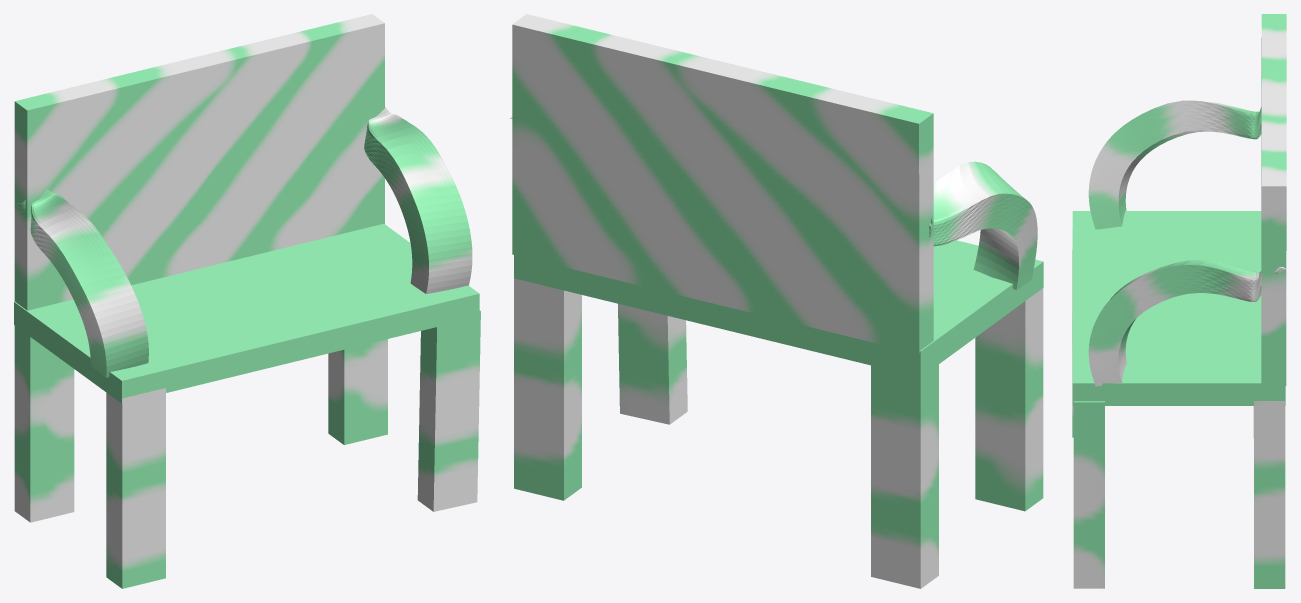
Rendered from Bench.glb.
3 views of the same model, side by side, from view 1: azimuth 30°, elevation 25°; view 2: azimuth 150°, elevation 25°; view 3: azimuth 270°, elevation 25° (orthographic). The views are drawn at different scales.
Visible parts, largest first — view 1: Box 4, Box (×2), Box 5, Box 2, Box 6, Box 1, Box 3; view 2: Box 4, Box (×2), Box 1, Box 3, Box 6, Box 5; view 3: Box, Box 4, Box 6, Box 2, Box 5, Box 3.
Part boxes in pixels (x1,y1,x2,y2): Box 4: (14,14,384,310); Box (×2): (14,223,479,588); Box 5: (417,310,480,511); Box 2: (364,106,472,293); Box 6: (16,189,148,377); Box 1: (14,325,74,522); Box 3: (328,339,387,444); Box 4: (512,14,933,353); Box (×2): (514,240,1043,511); Box 1: (871,364,938,588); Box 3: (514,278,581,500); Box 6: (929,161,1037,290); Box 5: (618,304,687,424); Box: (1072,211,1285,405); Box 4: (1261,14,1286,385); Box 6: (1088,100,1261,229); Box 2: (1088,260,1286,386); Box 5: (1073,401,1104,588); Box 3: (1254,401,1285,588).
Size of the model in its own units: 3.9 by 4.01 by 1.93.
